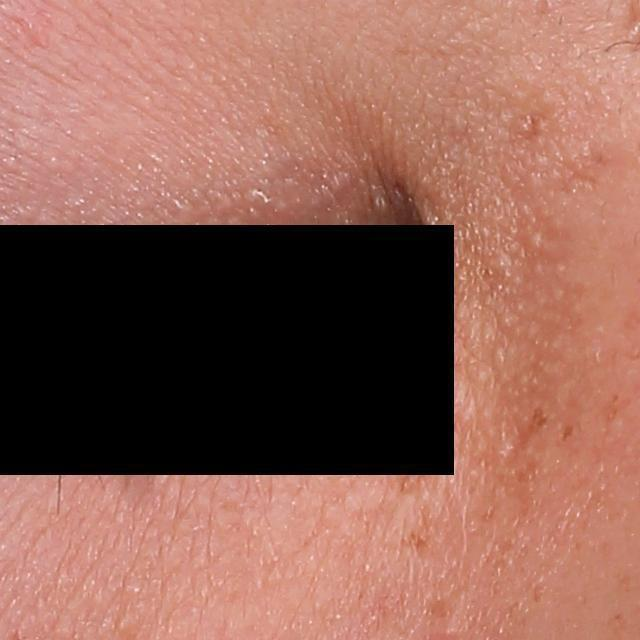melasma: (397, 526, 439, 556), (557, 420, 579, 444), (527, 405, 547, 429)
